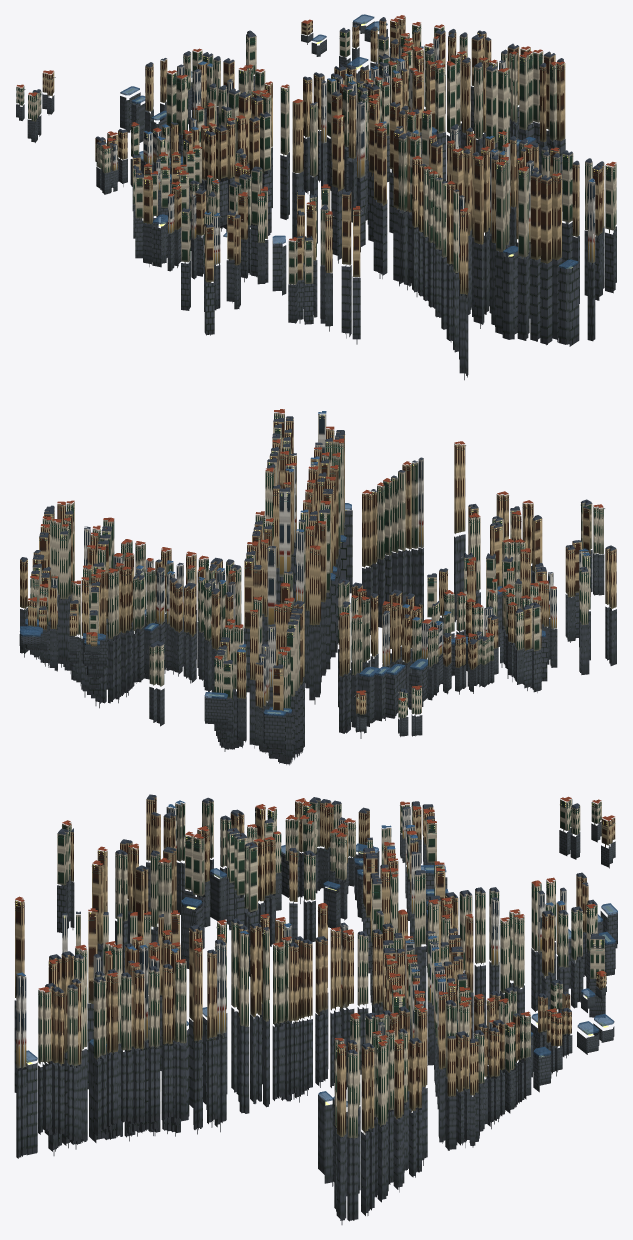
Rendered from osm_buildings_T_E01_N00_Q4.glb.
The picture shows the model from 3 angles, top to bottom: view 1: azimuth 30°, elevation 25°; view 2: azimuth 150°, elevation 25°; view 3: azimuth 270°, elevation 25°; orthographic projection. The views are drawn at different scales.
Visible parts, largest first — view 1: OSM_PBR_T_E01_N00_Q4_foundation, OSM_PBR_T_E01_N00_Q4_wall_french_ochre, OSM_PBR_T_E01_N00_Q4_wall_cream_stucco, OSM_PBR_T_E01_N00_Q4_wall_warm_white, OSM_PBR_T_E01_N00_Q4_roof_terracotta, OSM_PBR_T_E01_N00_Q4_roof_mansard_slate, OSM_PBR_T_E01_N00_Q4_wall_pastel_sand, OSM_PBR_T_E01_N00_Q4_roof_mansard_deck, OSM_PBR_T_E01_N00_Q4_greenhouse_blend, OSM_PBR_T_E01_N00_Q4_roof_mint_metal, OSM_PBR_T_E01_N00_Q4_balcony_railing; view 2: OSM_PBR_T_E01_N00_Q4_foundation, OSM_PBR_T_E01_N00_Q4_wall_french_ochre, OSM_PBR_T_E01_N00_Q4_wall_cream_stucco, OSM_PBR_T_E01_N00_Q4_wall_warm_white, OSM_PBR_T_E01_N00_Q4_roof_mansard_slate, OSM_PBR_T_E01_N00_Q4_roof_terracotta, OSM_PBR_T_E01_N00_Q4_wall_pastel_sand, OSM_PBR_T_E01_N00_Q4_roof_mansard_deck, OSM_PBR_T_E01_N00_Q4_greenhouse_blend, OSM_PBR_T_E01_N00_Q4_trim_cornice, OSM_PBR_T_E01_N00_Q4_roof_mint_metal; view 3: OSM_PBR_T_E01_N00_Q4_foundation, OSM_PBR_T_E01_N00_Q4_wall_french_ochre, OSM_PBR_T_E01_N00_Q4_wall_cream_stucco, OSM_PBR_T_E01_N00_Q4_roof_terracotta, OSM_PBR_T_E01_N00_Q4_wall_warm_white, OSM_PBR_T_E01_N00_Q4_roof_mansard_slate, OSM_PBR_T_E01_N00_Q4_wall_pastel_sand, OSM_PBR_T_E01_N00_Q4_greenhouse_blend, OSM_PBR_T_E01_N00_Q4_roof_mansard_deck, OSM_PBR_T_E01_N00_Q4_trim_cornice, OSM_PBR_T_E01_N00_Q4_roof_mint_metal.
Boxes of the visible parts, x1,y1,x2,y2 form: OSM_PBR_T_E01_N00_Q4_foundation: (16,21,616,380); OSM_PBR_T_E01_N00_Q4_wall_french_ochre: (42,17,604,297); OSM_PBR_T_E01_N00_Q4_wall_cream_stucco: (16,24,616,284); OSM_PBR_T_E01_N00_Q4_wall_warm_white: (153,61,595,263); OSM_PBR_T_E01_N00_Q4_roof_terracotta: (16,15,616,240); OSM_PBR_T_E01_N00_Q4_roof_mansard_slate: (32,17,603,240); OSM_PBR_T_E01_N00_Q4_wall_pastel_sand: (109,37,533,279); OSM_PBR_T_E01_N00_Q4_roof_mansard_deck: (33,17,602,267); OSM_PBR_T_E01_N00_Q4_greenhouse_blend: (120,14,578,268); OSM_PBR_T_E01_N00_Q4_roof_mint_metal: (16,23,614,246); OSM_PBR_T_E01_N00_Q4_balcony_railing: (23,22,611,244); OSM_PBR_T_E01_N00_Q4_foundation: (19,508,616,765); OSM_PBR_T_E01_N00_Q4_wall_french_ochre: (20,418,616,715); OSM_PBR_T_E01_N00_Q4_wall_cream_stucco: (30,412,603,718); OSM_PBR_T_E01_N00_Q4_wall_warm_white: (84,414,553,701); OSM_PBR_T_E01_N00_Q4_roof_mansard_slate: (20,416,616,693); OSM_PBR_T_E01_N00_Q4_roof_terracotta: (28,409,603,701); OSM_PBR_T_E01_N00_Q4_wall_pastel_sand: (51,444,588,706); OSM_PBR_T_E01_N00_Q4_roof_mansard_deck: (20,416,614,715); OSM_PBR_T_E01_N00_Q4_greenhouse_blend: (20,503,545,716); OSM_PBR_T_E01_N00_Q4_trim_cornice: (23,412,609,703); OSM_PBR_T_E01_N00_Q4_roof_mint_metal: (22,417,615,705); OSM_PBR_T_E01_N00_Q4_foundation: (14,821,617,1224); OSM_PBR_T_E01_N00_Q4_wall_french_ochre: (15,797,615,1136); OSM_PBR_T_E01_N00_Q4_wall_cream_stucco: (38,799,604,1138); OSM_PBR_T_E01_N00_Q4_roof_terracotta: (15,796,614,1048); OSM_PBR_T_E01_N00_Q4_wall_warm_white: (16,832,544,1068); OSM_PBR_T_E01_N00_Q4_roof_mansard_slate: (45,795,604,1053); OSM_PBR_T_E01_N00_Q4_wall_pastel_sand: (62,807,566,1071); OSM_PBR_T_E01_N00_Q4_greenhouse_blend: (26,843,617,1106); OSM_PBR_T_E01_N00_Q4_roof_mansard_deck: (27,794,616,1105); OSM_PBR_T_E01_N00_Q4_trim_cornice: (23,797,613,1055); OSM_PBR_T_E01_N00_Q4_roof_mint_metal: (15,800,615,1057).
Size of the model in its own units: 997 by 371 by 1007.
18 materials, 16 textured.
